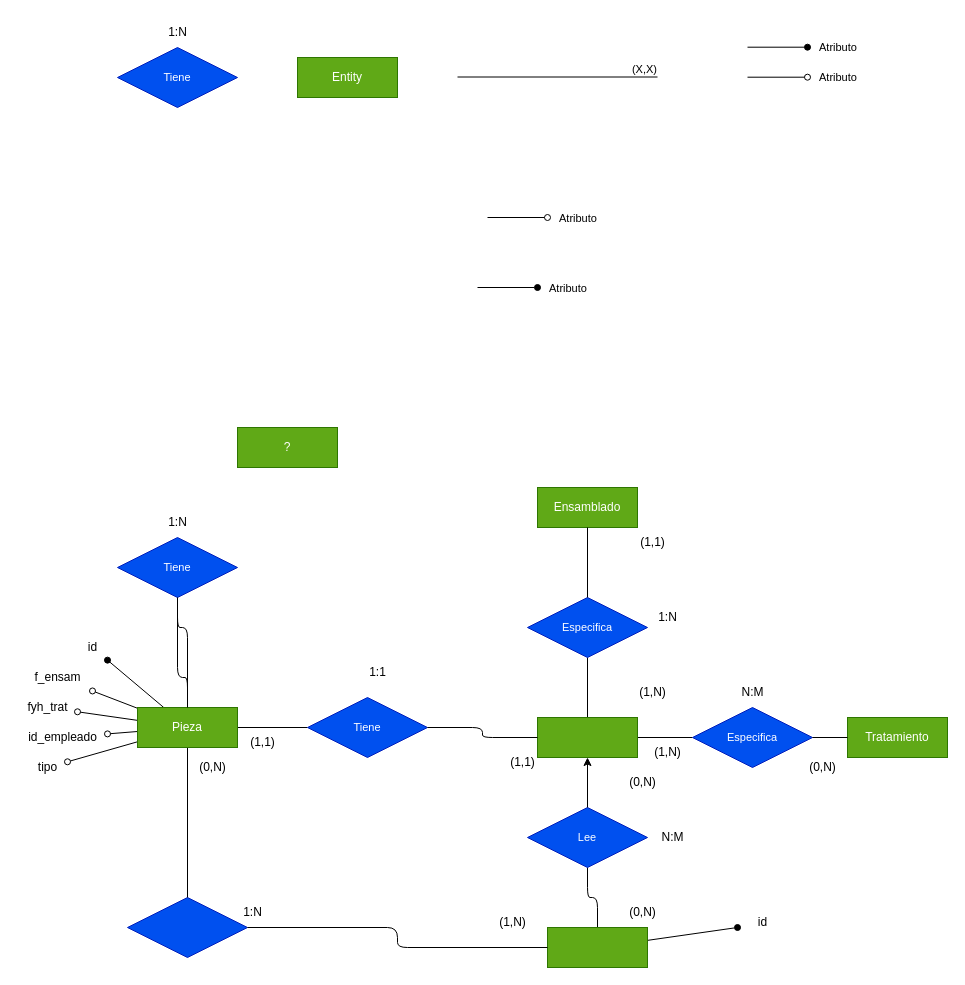
Image size: 965x985. Some labels were removed from this diagram. The centre of each missing label's shape, as x and y in pixels:
"Emplado" belongs at point (597, 947).
"Ensamblado Por" belongs at point (187, 927).
"Plano" belongs at point (587, 737).
